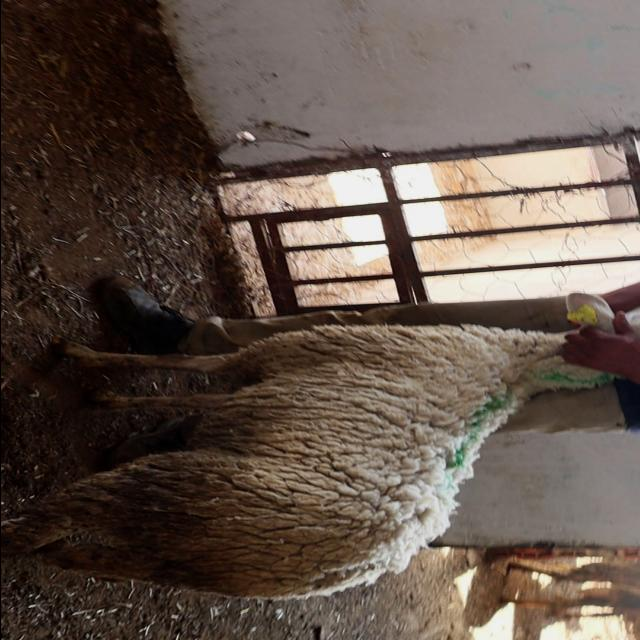Score_4: (1, 324, 613, 599)
